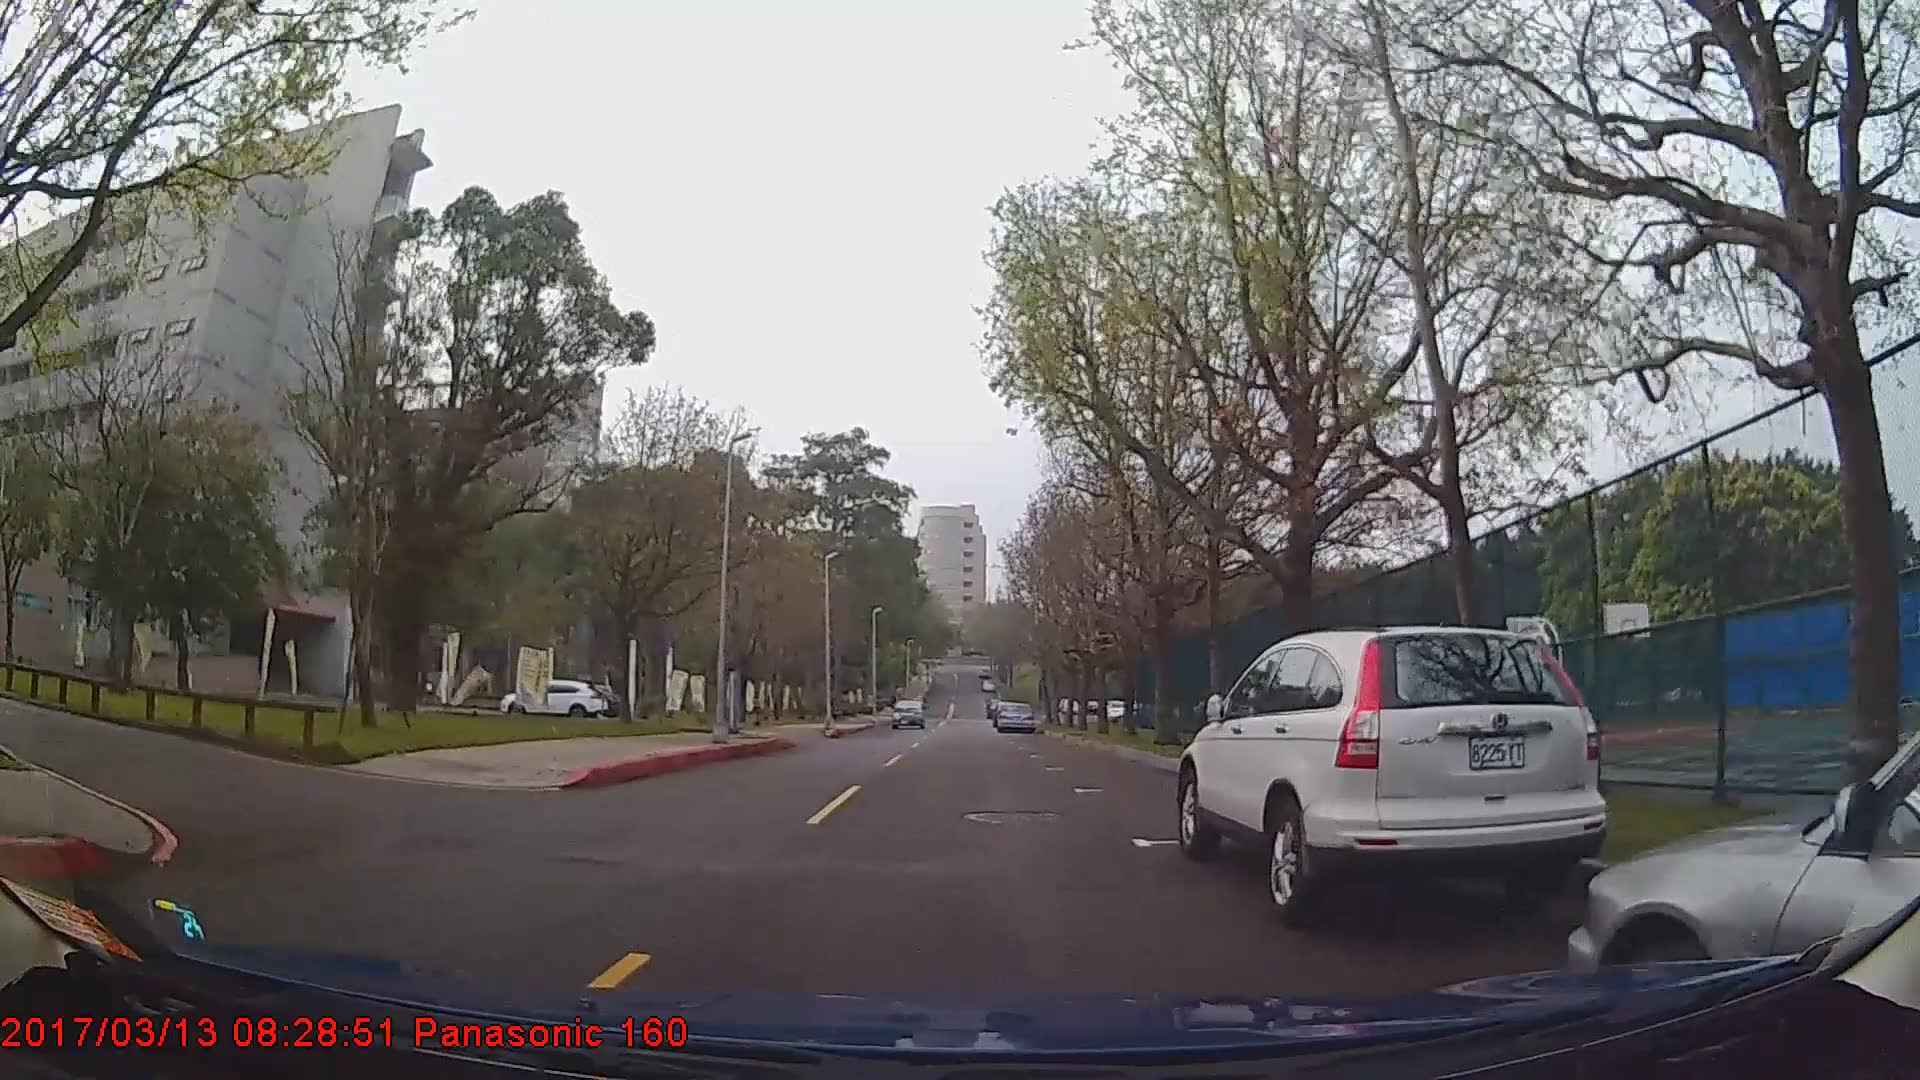vehicle: (1175, 622, 1609, 920), (498, 676, 608, 717), (994, 699, 1034, 732), (890, 695, 926, 728)
